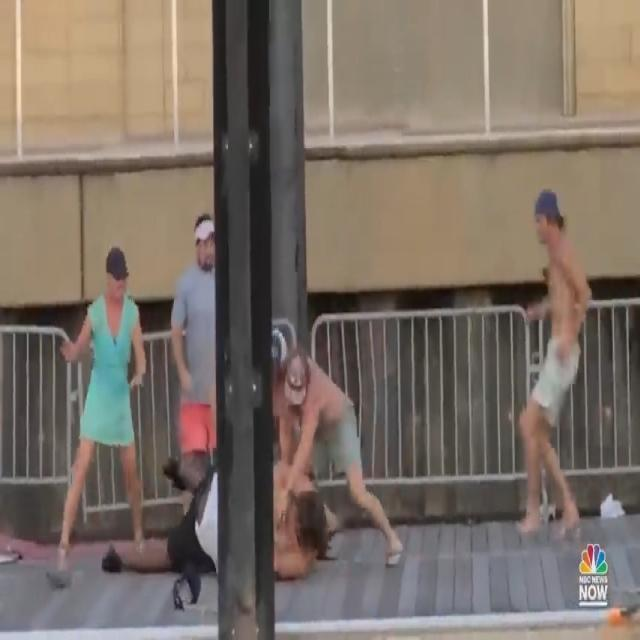fight: (94, 317, 412, 605)
